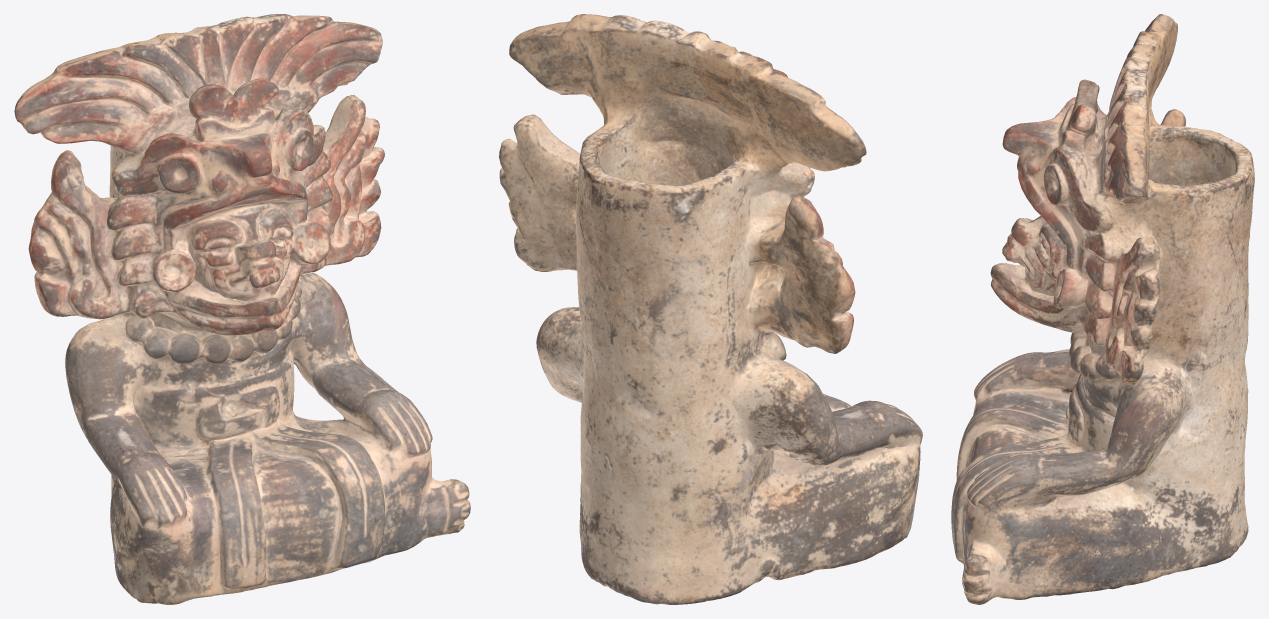
Rendered from zapotecas.glb.
The picture shows the model from 3 angles, left to right: view 1: azimuth 30°, elevation 25°; view 2: azimuth 150°, elevation 25°; view 3: azimuth 270°, elevation 25°; orthographic projection. The views are drawn at different scales.
Parts seen in each view (by area): view 1: Object_4; view 2: Object_4; view 3: Object_4.
Part boxes in pixels (box(x1,y1,x2,y2)): Object_4: box(14, 14, 470, 604); Object_4: box(499, 14, 922, 604); Object_4: box(951, 14, 1254, 604).
Size of the model in its own units: 0.2232 by 0.2959 by 0.1702.
Materials: 1 (1 with a texture image).
